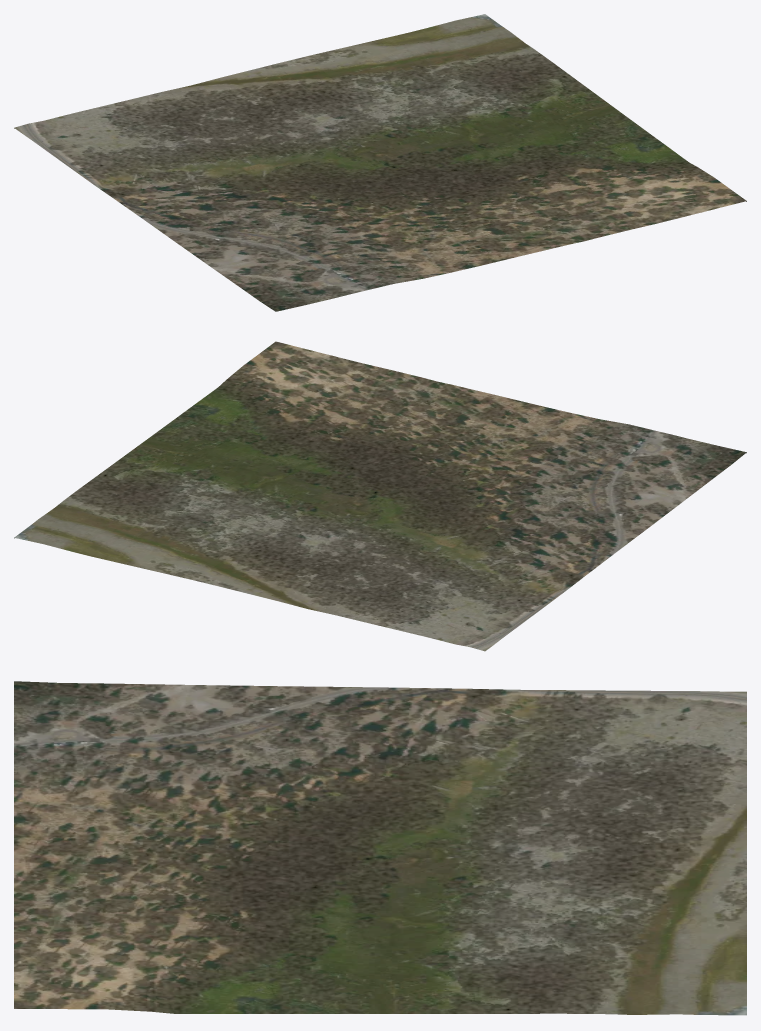
3 renders of one model, top to bottom at view 1: azimuth 30°, elevation 25°; view 2: azimuth 150°, elevation 25°; view 3: azimuth 270°, elevation 25°, orthographic. The views are drawn at different scales.
Bounding box in the file's own units: 500 × 9.95 × 481.
1 material, 1 textured.
